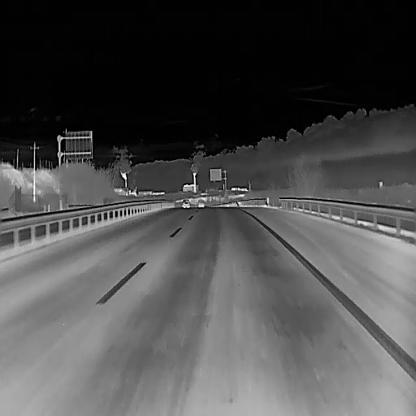car: (181, 198, 189, 208), (196, 198, 204, 207)
